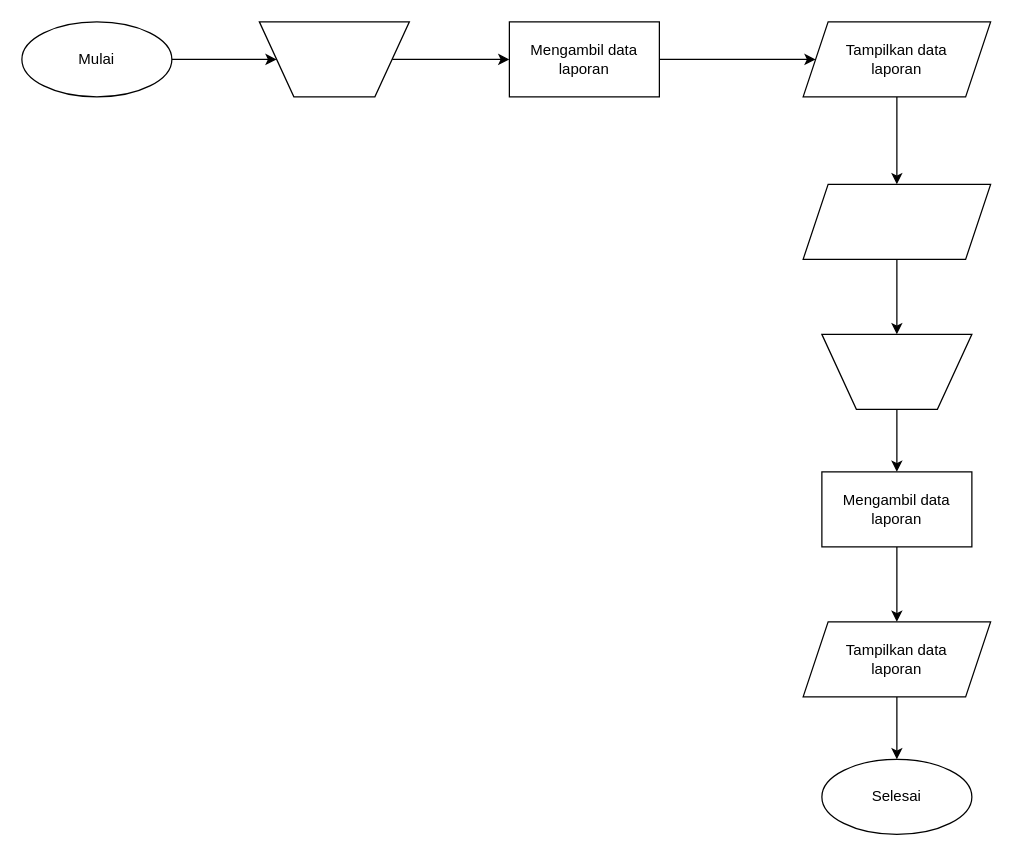
Some shapes in this 1013 by 856 pixel diagram are drawn without their labels. The shapes that lost their labels are listed below. From the top down, each one's centre as x and y in pixels, then its label:
pixel 333 59: Buka halaman laporan
pixel 896 221: Masukkan filter tanggal
pixel 896 371: Klik tombol search
